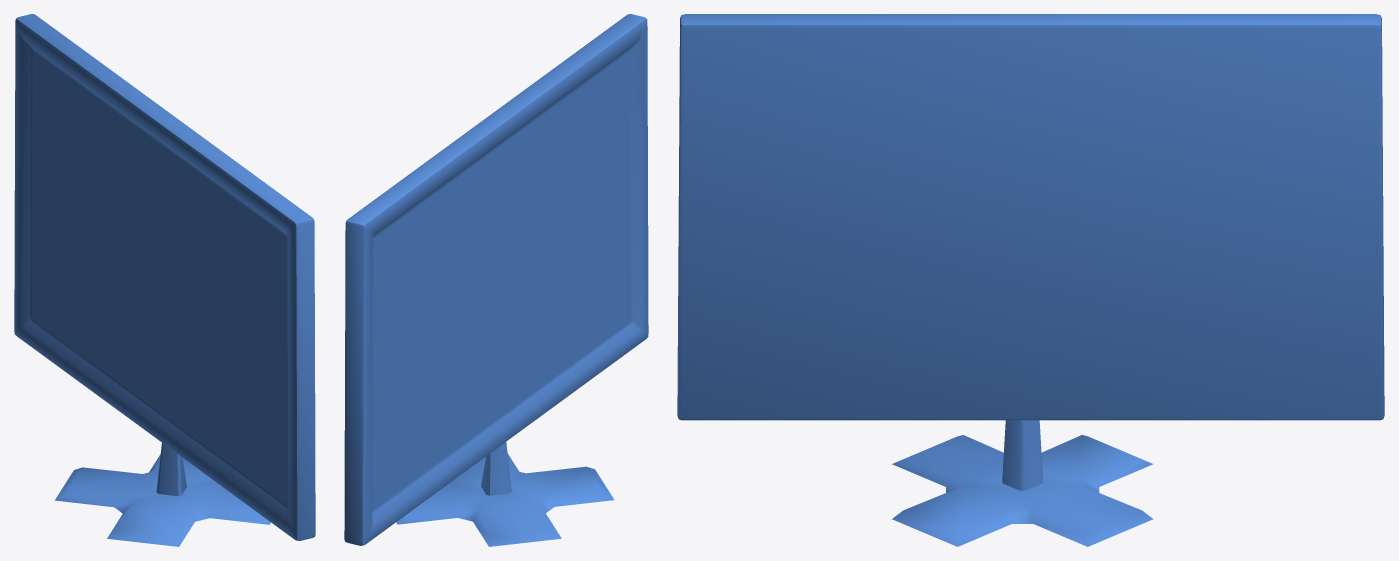
The model's file is PantallaPequeña.fbx.
The picture shows the model from 3 angles, left to right: view 1: azimuth 30°, elevation 25°; view 2: azimuth 150°, elevation 25°; view 3: azimuth 270°, elevation 25°; orthographic projection. The views are drawn at different scales.
Visible parts, largest first — view 1: PantallaPC; view 2: PantallaPC; view 3: PantallaPC.
Part boxes in pixels (<box>): PantallaPC: <box>14,14,315,546</box>; PantallaPC: <box>344,14,648,546</box>; PantallaPC: <box>677,14,1384,546</box>.
Bounding box in the file's own units: 34.21 × 67.88 × 92.36.
